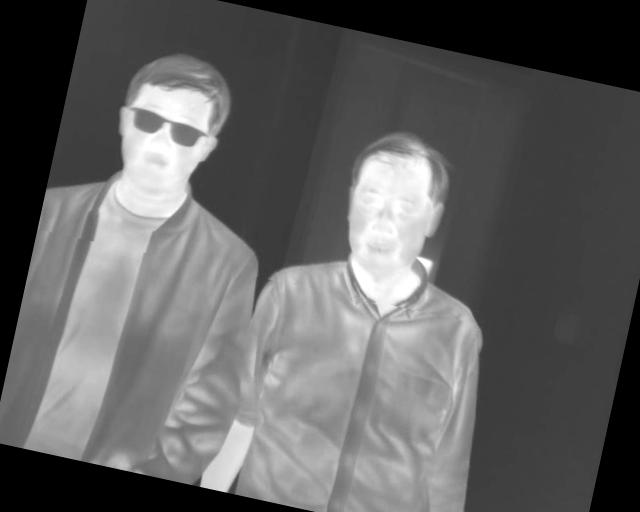face: (102, 42, 238, 208), (330, 121, 460, 286)
